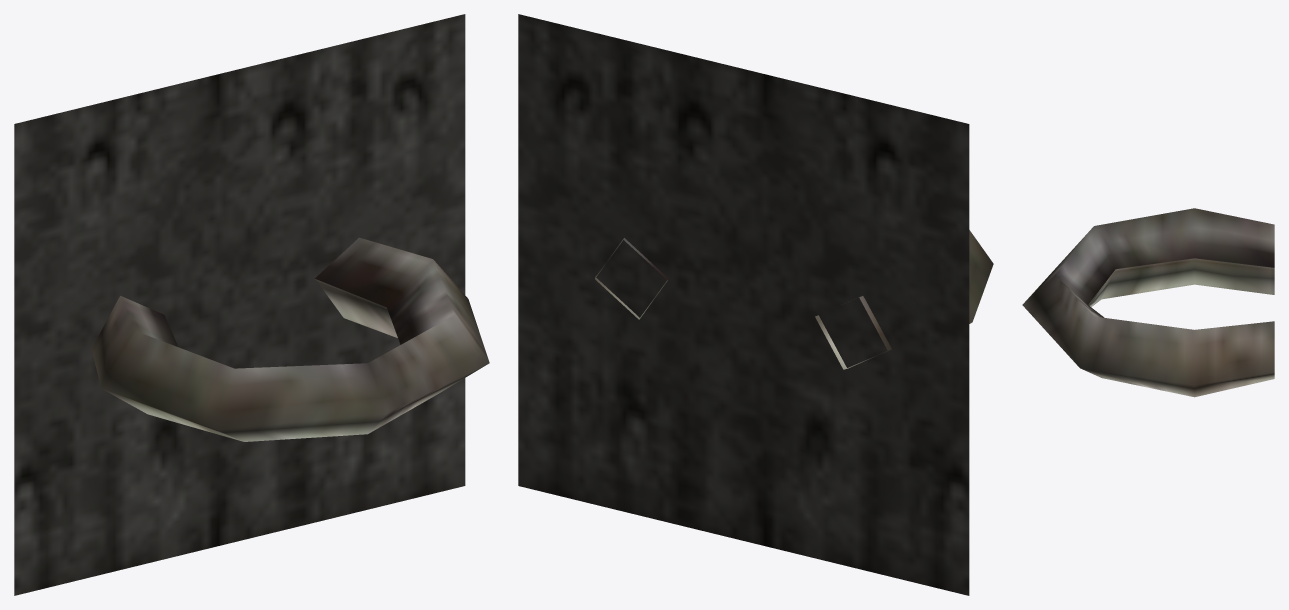
File: Wall_Chain.fbx
The picture shows the model from 3 angles, left to right: view 1: azimuth 30°, elevation 25°; view 2: azimuth 150°, elevation 25°; view 3: azimuth 270°, elevation 25°; orthographic projection. The views are drawn at different scales.
Visible parts, largest first — view 1: Wall_Chain; view 2: Wall_Chain; view 3: Wall_Chain.
Boxes of the visible parts, <box> form: Wall_Chain: <box>14,14,489,595</box>; Wall_Chain: <box>518,14,993,595</box>; Wall_Chain: <box>1022,208,1274,397</box>.
Size of the model in its own units: 30 by 30 by 17.29.
1 material, 1 textured.
